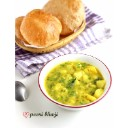poori: (24, 9, 61, 43), (44, 1, 83, 31)
